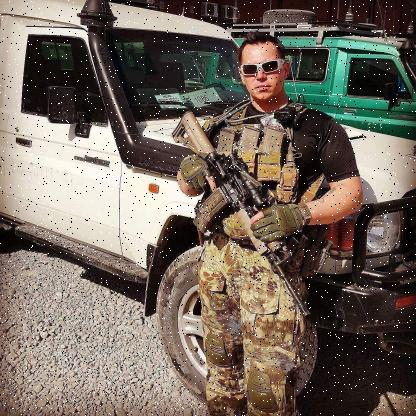rifle: (168, 108, 312, 320)
